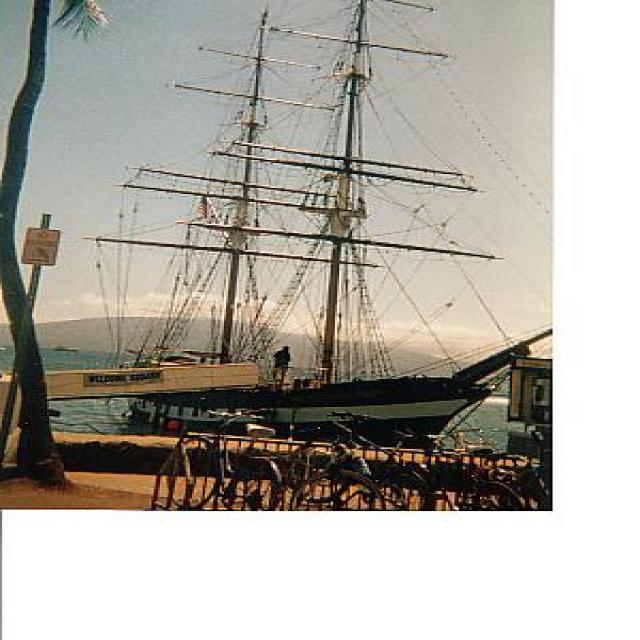Ship: (71, 16, 521, 457)
